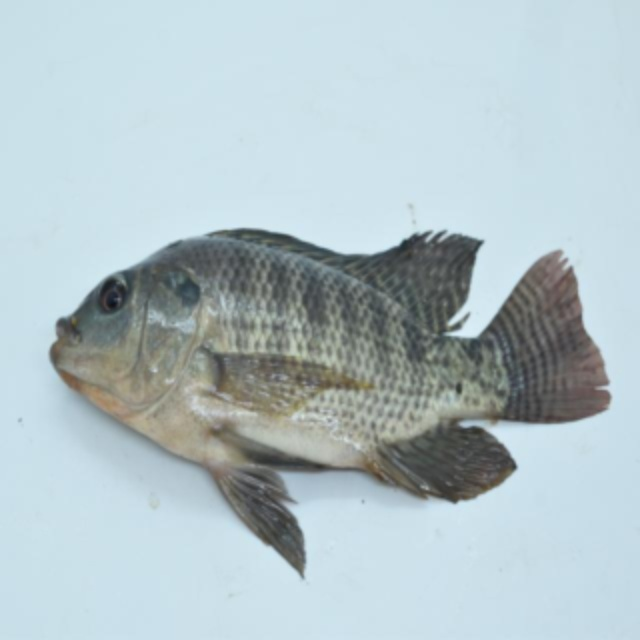Healthy Fish: (47, 224, 611, 581)
